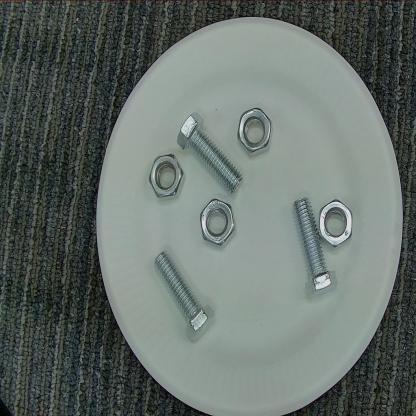FOD: (139, 248, 218, 341), (179, 112, 252, 193), (288, 195, 336, 307), (196, 196, 242, 250), (317, 194, 357, 250), (235, 105, 277, 155), (147, 150, 186, 202)
